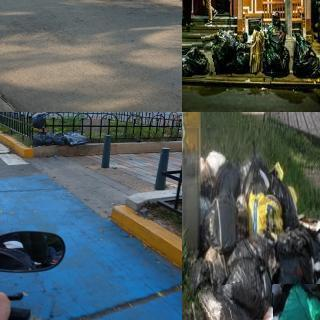Garbage: (223, 256, 273, 316), (274, 227, 312, 297), (200, 283, 253, 320), (267, 167, 299, 228), (201, 193, 235, 250), (272, 284, 320, 320), (202, 29, 239, 75), (291, 32, 320, 79), (258, 37, 291, 78), (211, 159, 240, 205), (260, 8, 291, 51), (182, 42, 211, 77), (242, 306, 275, 320), (30, 132, 54, 147), (64, 133, 91, 146), (46, 132, 67, 146), (32, 113, 46, 129)
